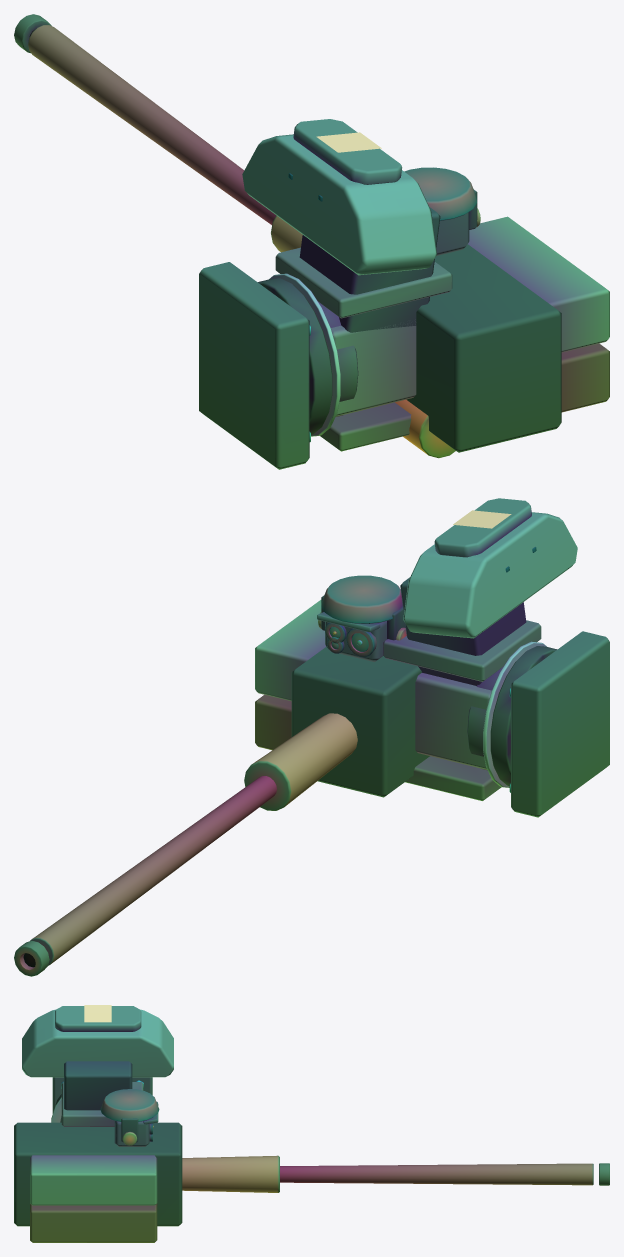
File: arm_m242.glb
3 renders of one model, top to bottom at view 1: azimuth 30°, elevation 25°; view 2: azimuth 150°, elevation 25°; view 3: azimuth 270°, elevation 25°, orthographic. The views are drawn at different scales.
Parts seen in each view (by area): view 1: Body__gunmetal, Body__dark, Body__armor, Body__armor_sub, Body__armor_oxide, Body__chrome, Body__brass, Body__armor_dark, Body__decal; view 2: Body__gunmetal, Body__armor, Body__dark, Body__armor_sub, Body__armor_oxide, Body__chrome, Body__decal, Body__armor_dark; view 3: Body__armor, Body__dark, Body__gunmetal, Body__armor_sub, Body__armor_oxide, Body__armor_dark, Body__decal.
Part boxes in pixels (x1,y1,x2,y2): Body__gunmetal: [14, 14, 476, 469]; Body__dark: [258, 173, 561, 452]; Body__armor: [242, 134, 609, 416]; Body__armor_sub: [271, 119, 452, 451]; Body__armor_oxide: [561, 343, 609, 412]; Body__chrome: [269, 273, 340, 441]; Body__brass: [395, 208, 480, 458]; Body__armor_dark: [436, 212, 469, 255]; Body__decal: [316, 132, 381, 152]; Body__gunmetal: [14, 575, 609, 976]; Body__armor: [255, 512, 577, 769]; Body__dark: [291, 547, 557, 797]; Body__armor_sub: [244, 498, 541, 810]; Body__armor_oxide: [255, 694, 291, 750]; Body__chrome: [483, 641, 546, 792]; Body__decal: [453, 510, 511, 528]; Body__armor_dark: [325, 621, 386, 661]; Body__armor: [22, 1009, 173, 1205]; Body__dark: [14, 1061, 182, 1226]; Body__gunmetal: [52, 1077, 609, 1185]; Body__armor_sub: [55, 1006, 279, 1192]; Body__armor_oxide: [30, 1203, 157, 1242]; Body__armor_dark: [114, 1121, 149, 1146]; Body__decal: [84, 1005, 111, 1022].
Bounding box in the file's own units: 0.996 × 0.9083 × 2.62.
